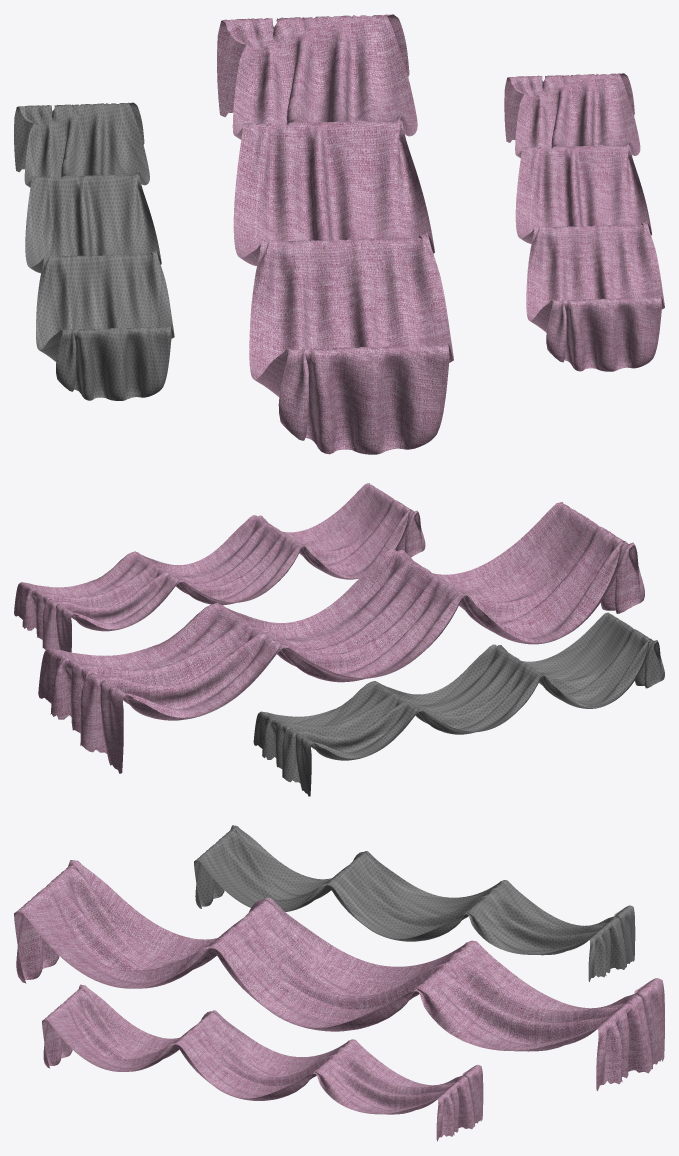
Rendered from gcdl1.gltf.
The picture shows the model from 3 angles, top to bottom: view 1: azimuth 30°, elevation 25°; view 2: azimuth 150°, elevation 25°; view 3: azimuth 270°, elevation 25°; orthographic projection. The views are drawn at different scales.
Parts seen in each view (by area): view 1: gcdl1; view 2: gcdl1; view 3: gcdl1.
Part boxes in pixels (<box>): gcdl1: <box>14,14,664,454</box>; gcdl1: <box>14,483,664,796</box>; gcdl1: <box>14,825,664,1141</box>.
Bounding box in the file's own units: 6.29 × 0.913 × 6.16.
3 materials, 3 textured.
